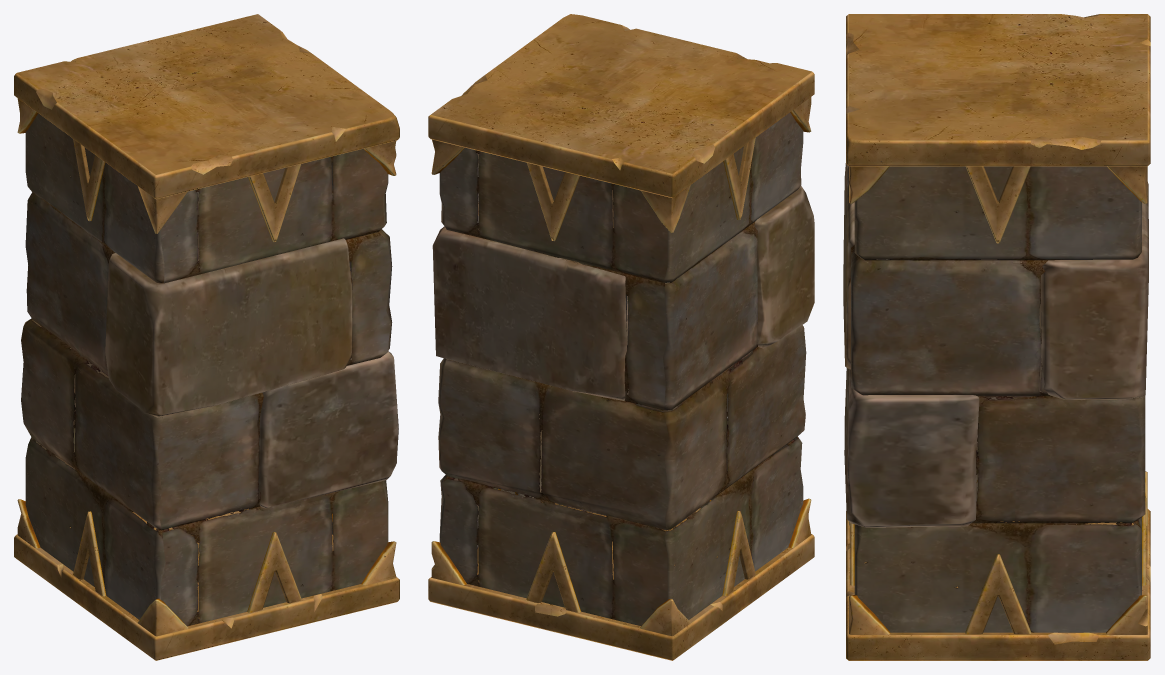
3 views of the same model, side by side, from view 1: azimuth 30°, elevation 25°; view 2: azimuth 150°, elevation 25°; view 3: azimuth 270°, elevation 25° (orthographic). The views are drawn at different scales.
Visible parts, largest first — view 1: SM_AgilityPillar_2x4_LOD0; view 2: SM_AgilityPillar_2x4_LOD0; view 3: SM_AgilityPillar_2x4_LOD0.
Boxes of the visible parts, x1,y1,x2,y2 form: SM_AgilityPillar_2x4_LOD0: [14, 14, 399, 660]; SM_AgilityPillar_2x4_LOD0: [428, 14, 814, 660]; SM_AgilityPillar_2x4_LOD0: [843, 14, 1150, 660].
Size of the model in its own units: 2.13 by 4 by 2.14.
3 materials, 3 textured.
